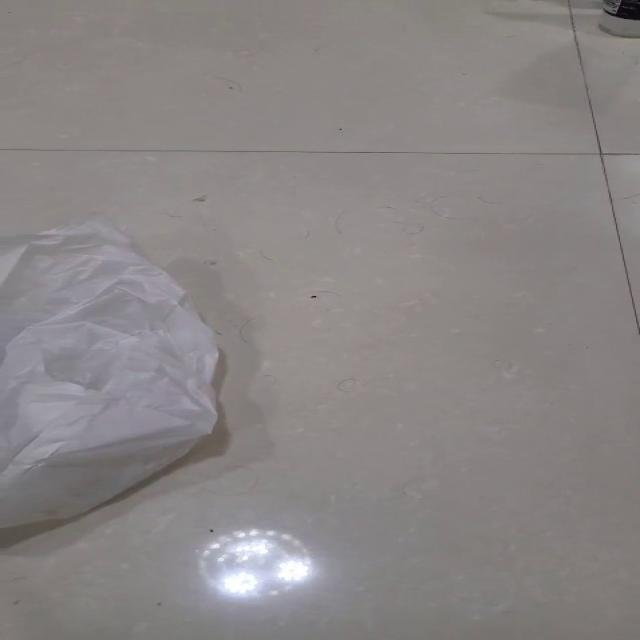plastic: (0, 218, 221, 528)
